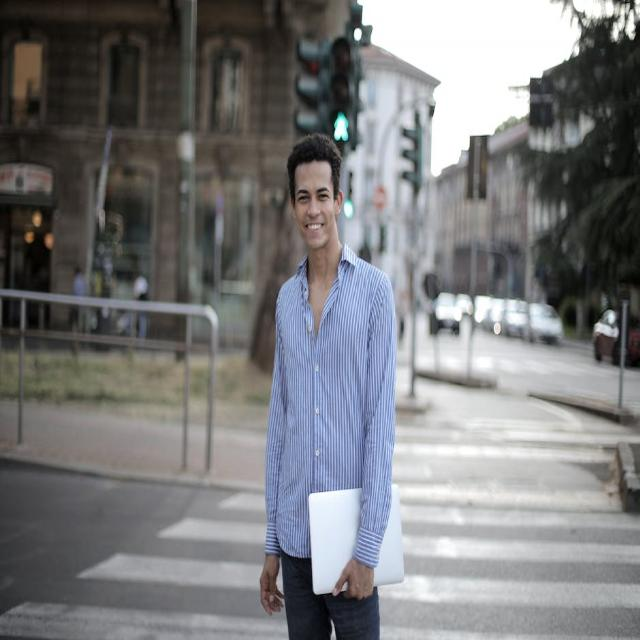no entry: (373, 188, 386, 208)
